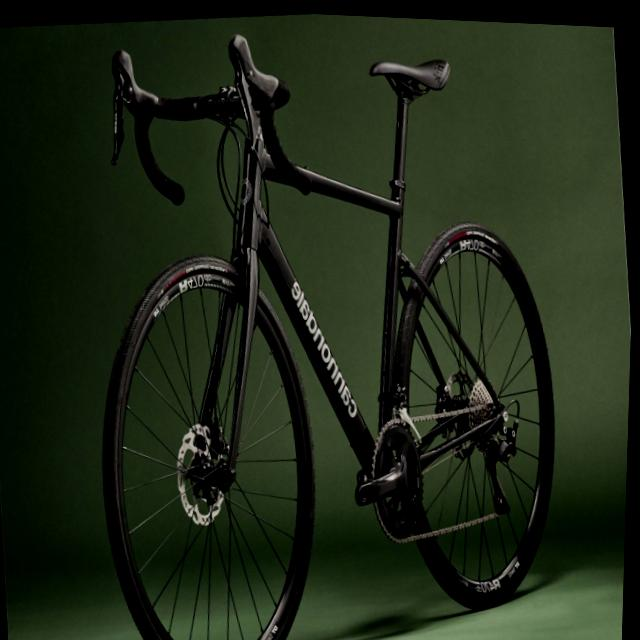road-bike: (65, 3, 586, 640)
